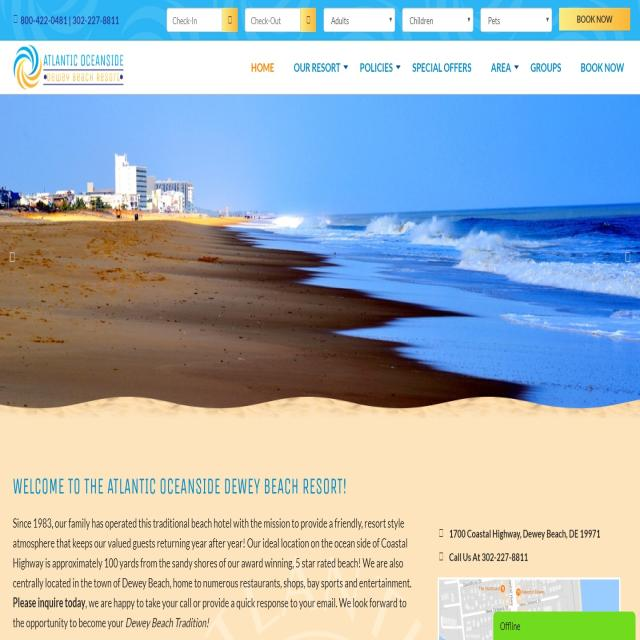button: (408, 53, 475, 83), (293, 52, 349, 84), (560, 7, 630, 31), (577, 52, 627, 81), (357, 52, 401, 81), (482, 53, 523, 81), (528, 52, 565, 82), (242, 53, 280, 81), (300, 8, 316, 32), (222, 7, 238, 31)
field: (481, 8, 551, 32), (325, 9, 394, 33), (403, 9, 472, 33), (245, 8, 299, 33), (167, 9, 222, 32)
heading: (11, 473, 349, 500), (44, 52, 126, 89)
image: (0, 95, 640, 411), (439, 577, 618, 640), (10, 42, 41, 87)
label: (248, 11, 282, 29), (170, 11, 198, 29), (408, 12, 435, 28), (328, 13, 351, 27), (488, 14, 500, 28)
text: (12, 514, 414, 633), (448, 524, 602, 542), (14, 10, 121, 31), (449, 552, 531, 566)
